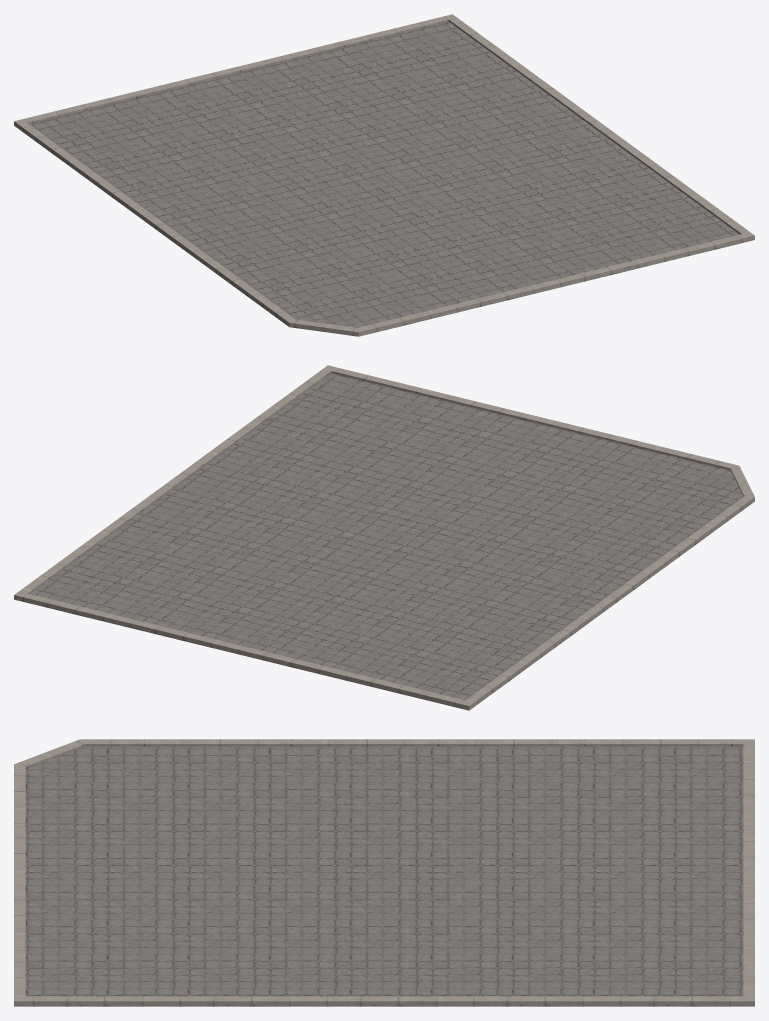
Rendered from TownGroundTile_S.fbx.
3 views of the same model, one above another, from view 1: azimuth 30°, elevation 25°; view 2: azimuth 150°, elevation 25°; view 3: azimuth 270°, elevation 25° (orthographic). The views are drawn at different scales.
Parts seen in each view (by area): view 1: TownGroundTile_S; view 2: TownGroundTile_S; view 3: TownGroundTile_S.
Boxes of the visible parts, x1,y1,x2,y2 form: TownGroundTile_S: [14, 14, 754, 336]; TownGroundTile_S: [14, 365, 754, 710]; TownGroundTile_S: [14, 739, 754, 1006].
Size of the model in its own units: 2622 by 25.35 by 3131.
Materials: 2 (2 with a texture image).
